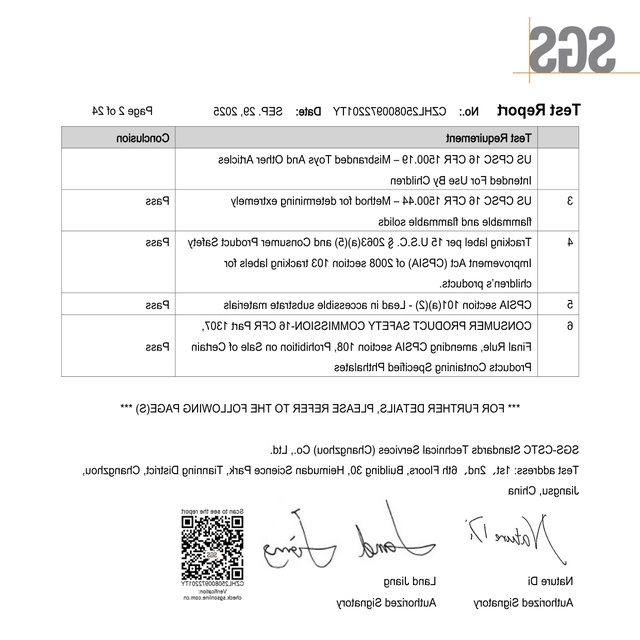sgs: (529, 24, 616, 73)
